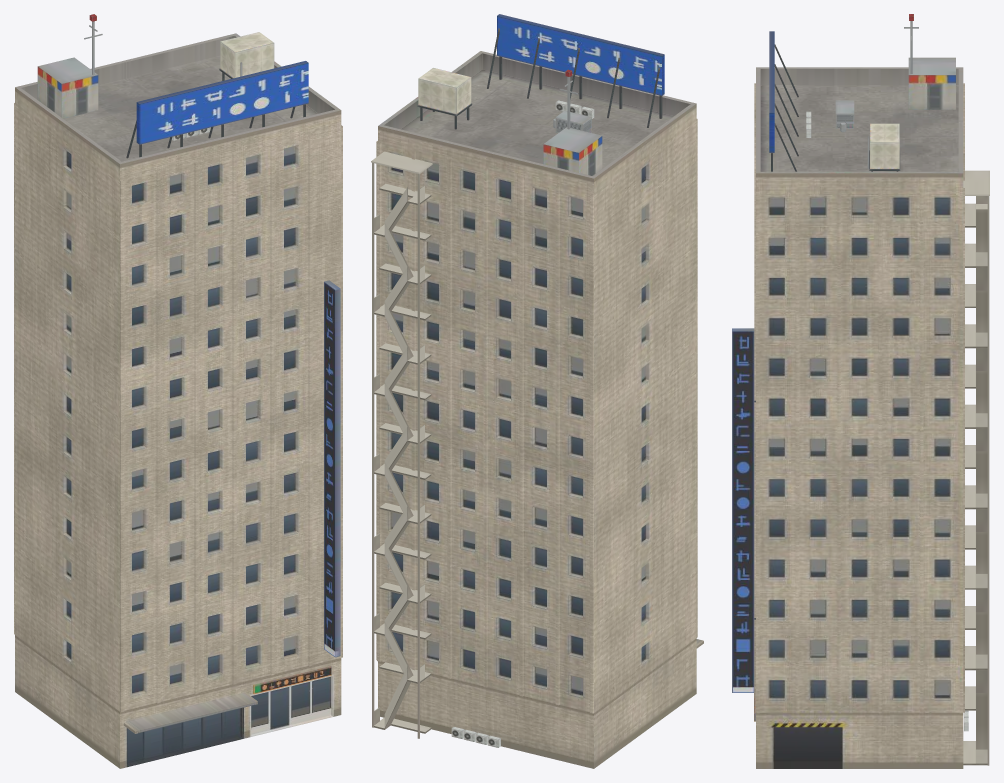
File: tokyo_midrise_e.glb
3 views of the same model, side by side, from view 1: azimuth 30°, elevation 25°; view 2: azimuth 150°, elevation 25°; view 3: azimuth 270°, elevation 25° (orthographic). The views are drawn at different scales.
Visible parts, largest first — view 1: tokyo_midrise_e; view 2: tokyo_midrise_e; view 3: tokyo_midrise_e.
Boxes of the visible parts, <box> form: tokyo_midrise_e: <box>14,14,342,768</box>; tokyo_midrise_e: <box>371,14,703,768</box>; tokyo_midrise_e: <box>732,14,989,768</box>.
Size of the model in its own units: 17.12 by 50.15 by 17.42.
Materials: 1 (1 with a texture image).
